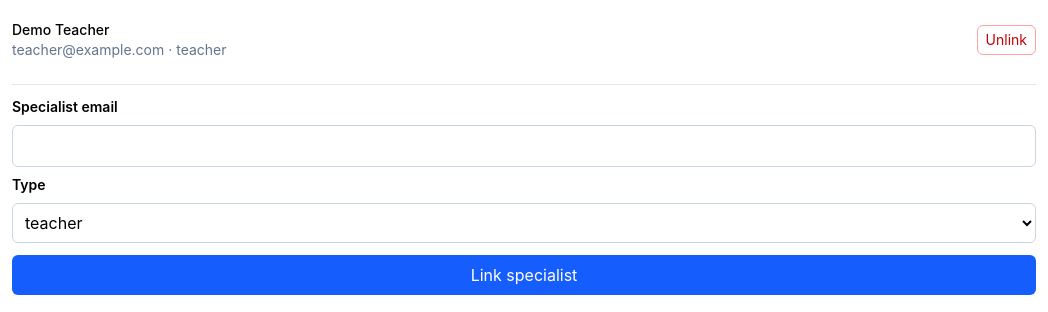
Test: LinkedSpecialists › unlinks a specialist after confirmation and removes it from the list (US-M2-03)
Step 1. Click the button with aria-label "Unlink Demo Teacher" → [1006, 40], box [977,25,1036,55]
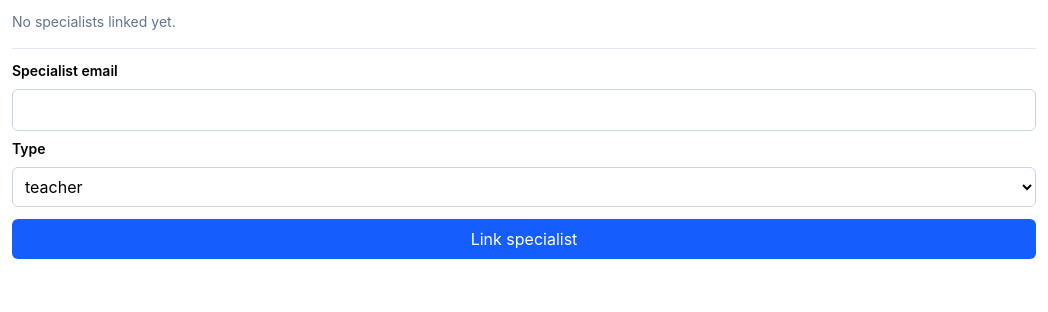
Expected: the text "No specialists linked yet." is shown, [12,13,176,30]
